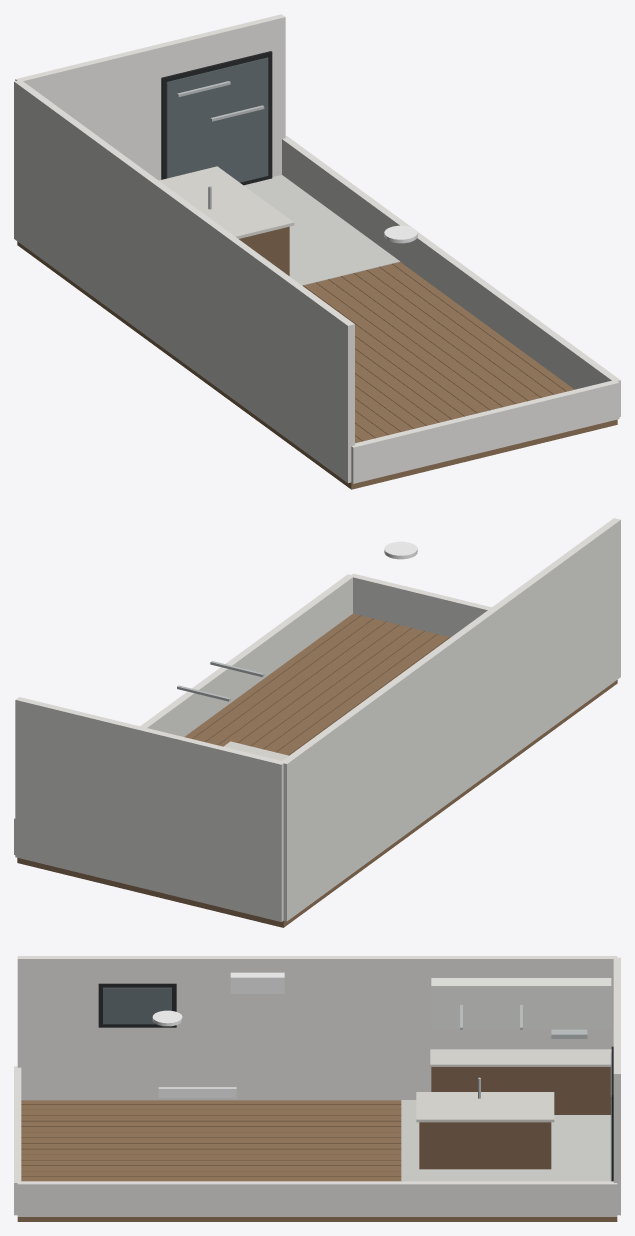
Rendered from living-kitchen-v1.glb.
3 views of the same model, one above another, from view 1: azimuth 30°, elevation 25°; view 2: azimuth 150°, elevation 25°; view 3: azimuth 270°, elevation 25° (orthographic). The views are drawn at different scales.
Visible parts, largest first — view 1: left wall, wood floor, back wall, right low wall, patio door frame, front low wall, patio door glass, kitchen tile floor, island top, island base; view 2: left wall, back wall, wood floor, right low wall, front low wall; view 3: left wall, wood floor, right low wall, upper cabinets, kitchen tile floor, island base, plank seam (×14), lower cabinets, island top, counter, window frame, window glass (+6 smaller).
Boxes of the visible parts, left/top/right/bottom form: left wall: left=14, top=80, right=354, bottom=483; wood floor: left=17, top=241, right=617, bottom=489; back wall: left=15, top=14, right=285, bottom=180; right low wall: left=282, top=136, right=620, bottom=416; patio door frame: left=161, top=51, right=272, bottom=185; front low wall: left=351, top=380, right=619, bottom=483; patio door glass: left=166, top=57, right=268, bottom=182; kitchen tile floor: left=244, top=175, right=400, bottom=285; island top: left=159, top=166, right=294, bottom=238; island base: left=239, top=226, right=289, bottom=275; left wall: left=280, top=518, right=620, bottom=921; back wall: left=15, top=697, right=283, bottom=921; wood floor: left=17, top=613, right=617, bottom=927; right low wall: left=14, top=574, right=353, bottom=854; front low wall: left=350, top=573, right=491, bottom=637; left wall: left=17, top=956, right=617, bottom=1100; wood floor: left=17, top=1100, right=617, bottom=1221; right low wall: left=17, top=1181, right=617, bottom=1216; upper cabinets: left=431, top=978, right=611, bottom=1029; kitchen tile floor: left=401, top=1100, right=611, bottom=1181; island base: left=419, top=1122, right=551, bottom=1169; plank seam (×14): left=21, top=1104, right=401, bottom=1176; lower cabinets: left=431, top=1067, right=611, bottom=1114; island top: left=416, top=1092, right=554, bottom=1122; counter: left=430, top=1049, right=611, bottom=1066; window frame: left=98, top=983, right=176, bottom=1027; window glass: left=103, top=987, right=171, bottom=1024.
Bounding box in the file's own units: 4.72 × 2.72 × 10.12.
